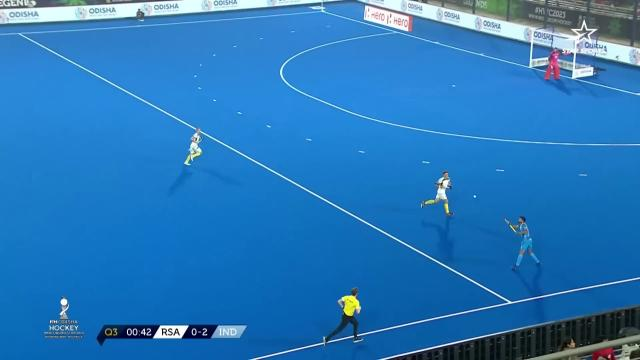ball: (472, 194, 478, 201)
